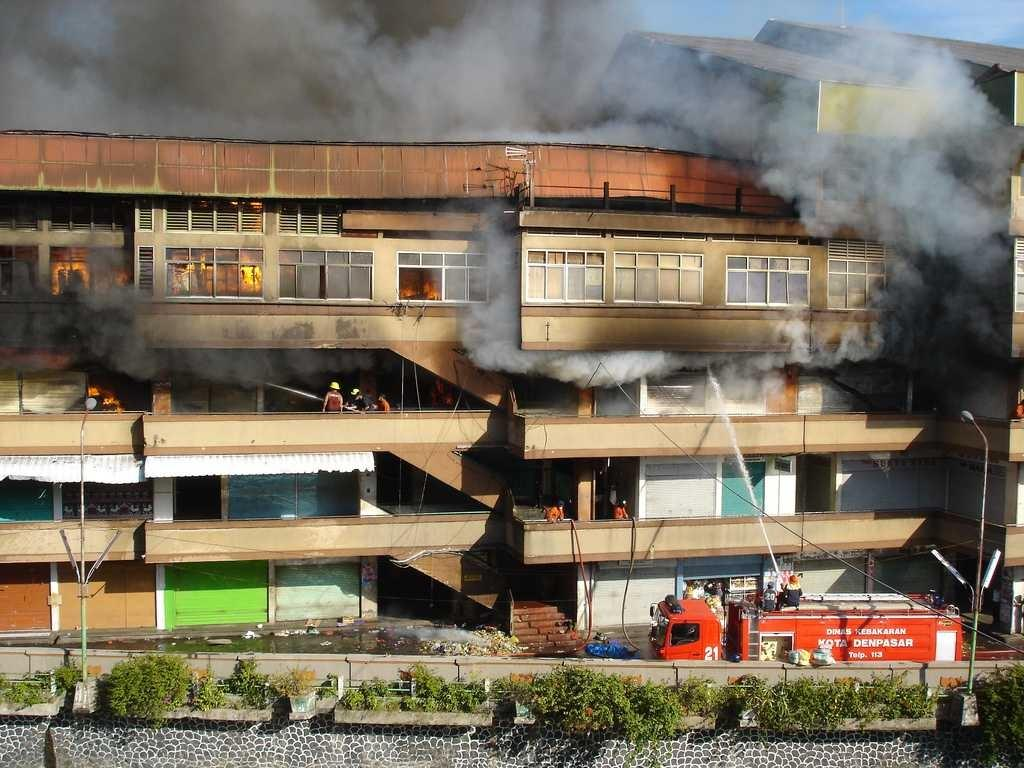fire: (53, 258, 99, 294), (79, 383, 138, 405), (402, 272, 440, 303), (240, 270, 270, 291)
smoke: (20, 6, 573, 134), (788, 88, 1009, 235)
